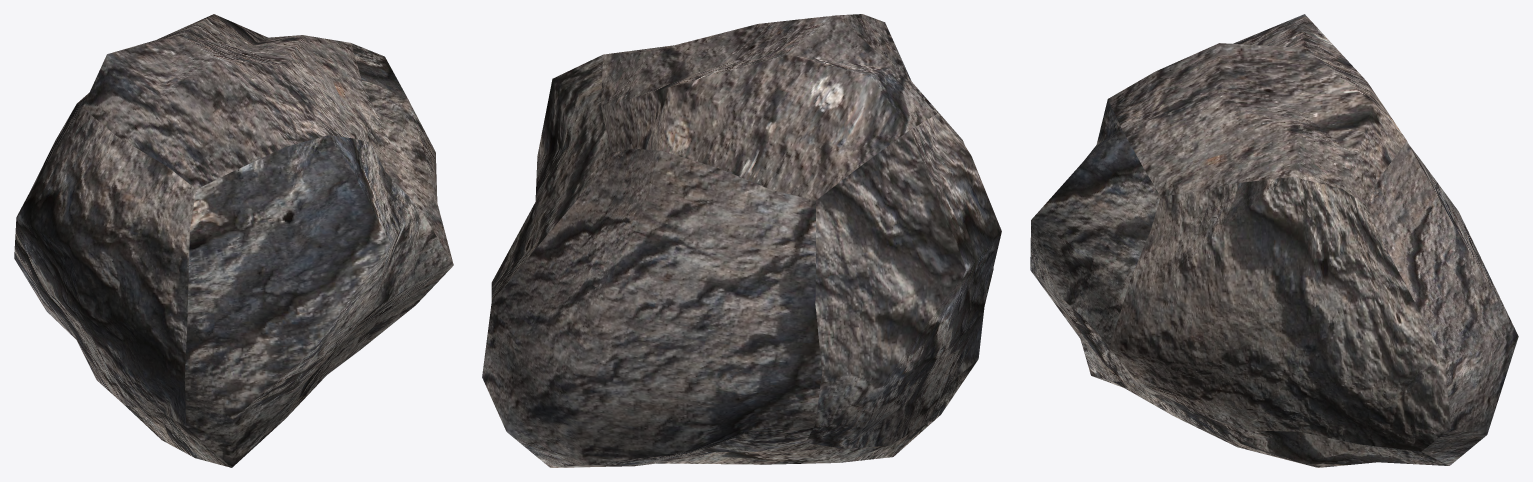
The model's file is rock.FBX.
3 views of the same model, side by side, from view 1: azimuth 30°, elevation 25°; view 2: azimuth 150°, elevation 25°; view 3: azimuth 270°, elevation 25° (orthographic). The views are drawn at different scales.
Parts seen in each view (by area): view 1: rockLP001; view 2: rockLP001; view 3: rockLP001.
Part boxes in pixels (bbox=[...]): rockLP001: bbox=[14, 14, 453, 467]; rockLP001: bbox=[482, 14, 1001, 467]; rockLP001: bbox=[1030, 14, 1518, 467].
Bounding box in the file's own units: 96.72 × 91.77 × 106.
Materials: 1 (1 with a texture image).
